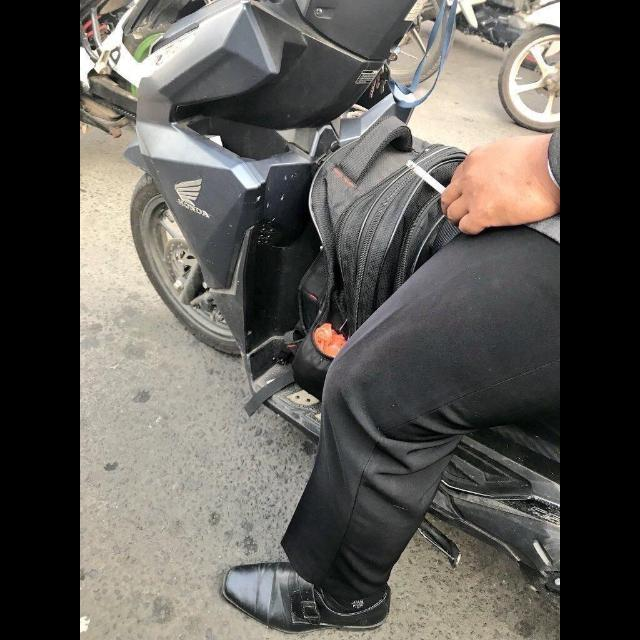rokok: (404, 158, 446, 196)
